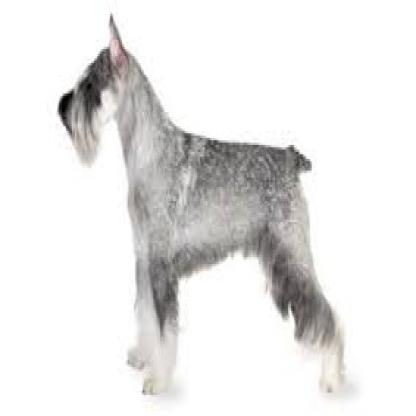Schnauzer: (55, 9, 356, 402)
